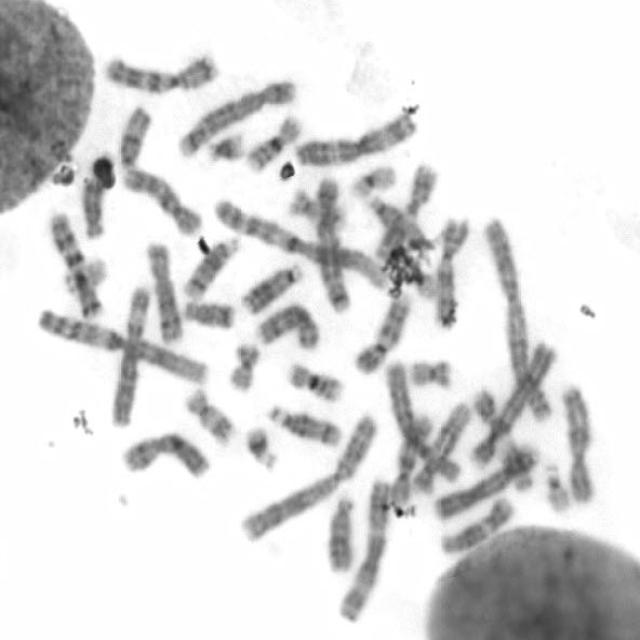A1: (208, 193, 388, 292), (34, 306, 210, 386)
A2: (236, 407, 380, 542), (480, 213, 555, 420)
A3: (333, 473, 392, 624), (291, 112, 418, 170)
B4: (465, 336, 558, 470), (429, 443, 542, 525)
B5: (173, 79, 299, 161), (312, 175, 352, 313)
C10: (120, 162, 203, 230), (387, 410, 435, 502)
C11: (467, 382, 535, 489), (382, 167, 439, 259)
C12: (408, 396, 472, 497), (436, 495, 516, 557)
C6: (382, 355, 464, 483), (106, 282, 155, 428)
C7: (43, 209, 105, 321), (100, 48, 220, 96)
C8: (140, 237, 185, 346), (251, 297, 322, 355)
C9: (348, 294, 414, 378), (432, 218, 472, 332)
D13: (236, 260, 305, 312), (322, 492, 358, 574)
D14: (264, 398, 344, 449), (179, 238, 240, 300)
D15: (362, 193, 433, 253), (112, 103, 154, 171)
E16: (240, 112, 305, 174), (282, 362, 346, 404)
E17: (180, 384, 237, 448), (284, 184, 347, 234)
E18: (179, 295, 237, 333), (78, 170, 106, 240)
F19: (347, 162, 398, 201), (402, 255, 442, 302)
F20: (225, 336, 263, 394), (407, 354, 455, 391)
G21: (241, 419, 279, 474), (203, 130, 248, 166)
G22: (59, 254, 110, 296), (542, 458, 573, 514)
X: (557, 379, 598, 506), (117, 427, 211, 478)
